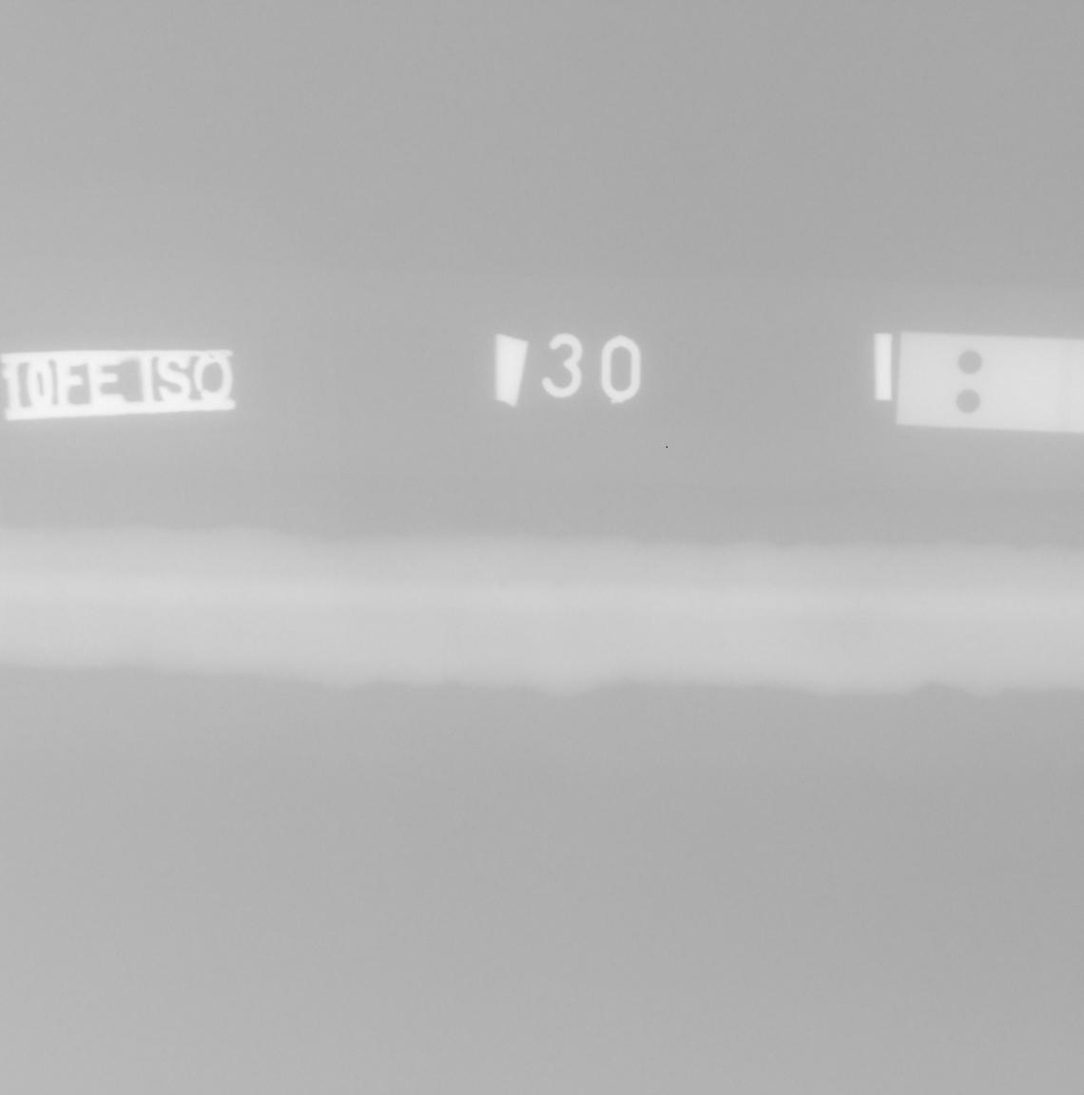Pore/Porosity: (499, 581, 506, 587)
